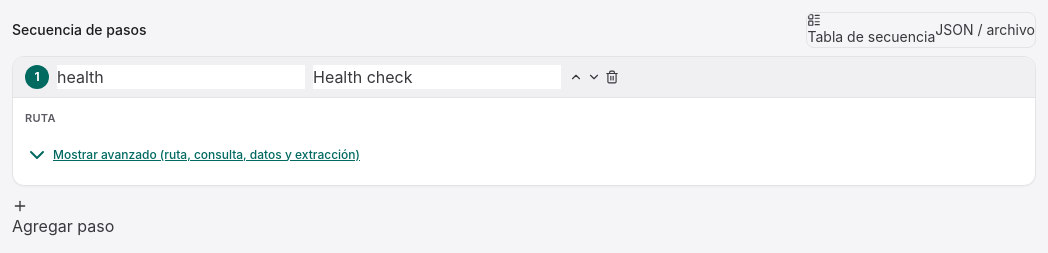
JourneyStepsEditor · modos de edición › se puede alternar a JSON/archivo y volver a la tabla
Step 1. Click the button "JSON / archivo" → (985, 30), box 935,13 -> 1035,47
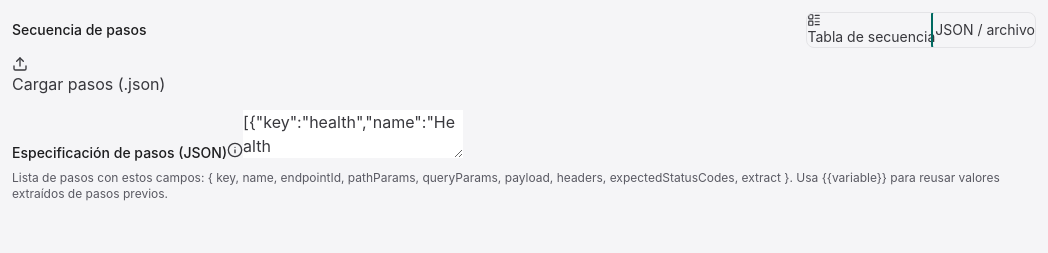
Result: the list item "1 Ruta Mostrar avanzado (ruta, consulta, datos y extracción)" is gone
Step 2. Click the button "Tabla de secuencia" → (871, 30), box 808,13 -> 935,47
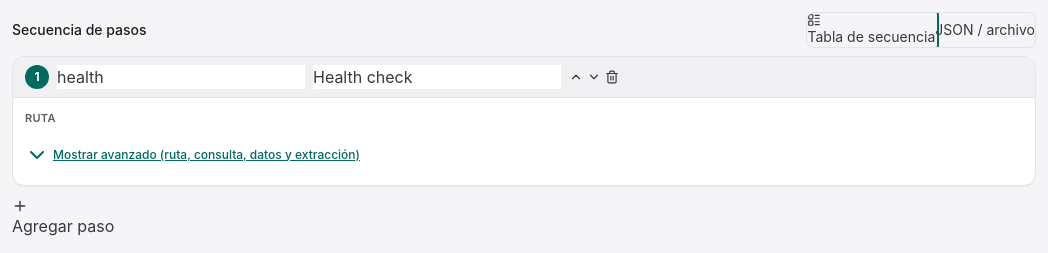
Result: the list item is shown at 12,56 -> 1036,186
